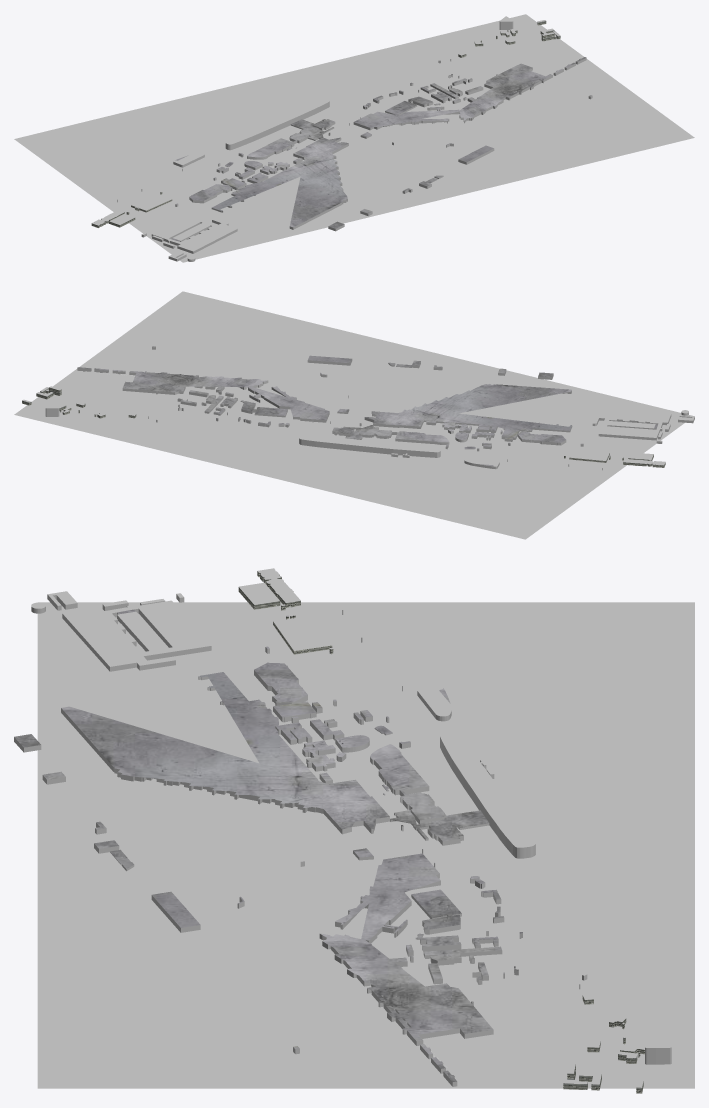
The model's file is frankfurtAirport.fbx.
3 views of the same model, one above another, from view 1: azimuth 30°, elevation 25°; view 2: azimuth 150°, elevation 25°; view 3: azimuth 270°, elevation 25° (orthographic). The views are drawn at different scales.
Visible parts, largest first — view 1: EXPORT_GOOGLE_SAT_WM, Roof, Areas:building; view 2: EXPORT_GOOGLE_SAT_WM, Roof, Areas:building; view 3: EXPORT_GOOGLE_SAT_WM, Roof, Areas:building.
Boxes of the visible parts, x1=… form: EXPORT_GOOGLE_SAT_WM: x1=14, y1=14, x2=694, y2=262; Roof: x1=92, y1=16, x2=592, y2=259; Areas:building: x1=91, y1=21, x2=592, y2=261; EXPORT_GOOGLE_SAT_WM: x1=14, y1=291, x2=693, y2=539; Roof: x1=22, y1=346, x2=694, y2=467; Areas:building: x1=22, y1=347, x2=694, y2=470; EXPORT_GOOGLE_SAT_WM: x1=37, y1=602, x2=694, y2=1088; Roof: x1=14, y1=568, x2=671, y2=1087; Areas:building: x1=14, y1=571, x2=671, y2=1093.
Size of the model in its own units: 458232 by 6800 by 253344.
